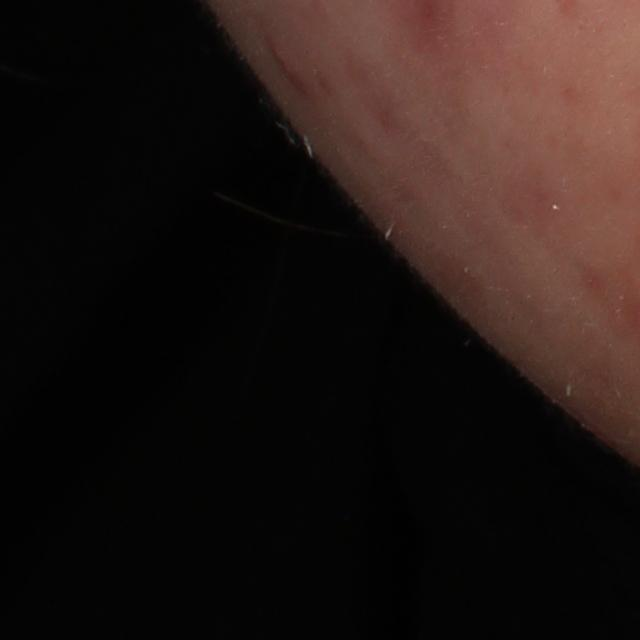papule: (258, 37, 303, 85)
